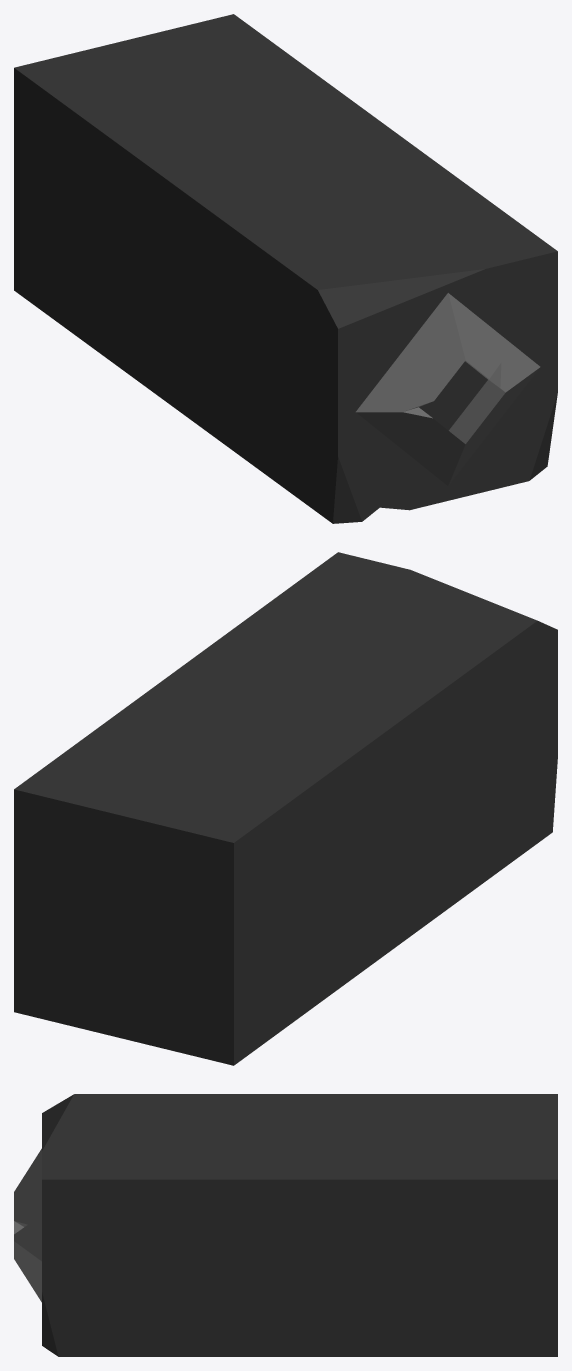
File: Obstacle_ArrowTrap.fbx
The picture shows the model from 3 angles, top to bottom: view 1: azimuth 30°, elevation 25°; view 2: azimuth 150°, elevation 25°; view 3: azimuth 270°, elevation 25°; orthographic projection. The views are drawn at different scales.
Visible parts, largest first — view 1: Obstacle_ArrowTrap; view 2: Obstacle_ArrowTrap; view 3: Obstacle_ArrowTrap.
Part boxes in pixels (x1,y1,x2,y2): Obstacle_ArrowTrap: (14,14,557,523); Obstacle_ArrowTrap: (14,552,557,1065); Obstacle_ArrowTrap: (14,1094,557,1356).
Size of the model in its own units: 107 by 103 by 288.
